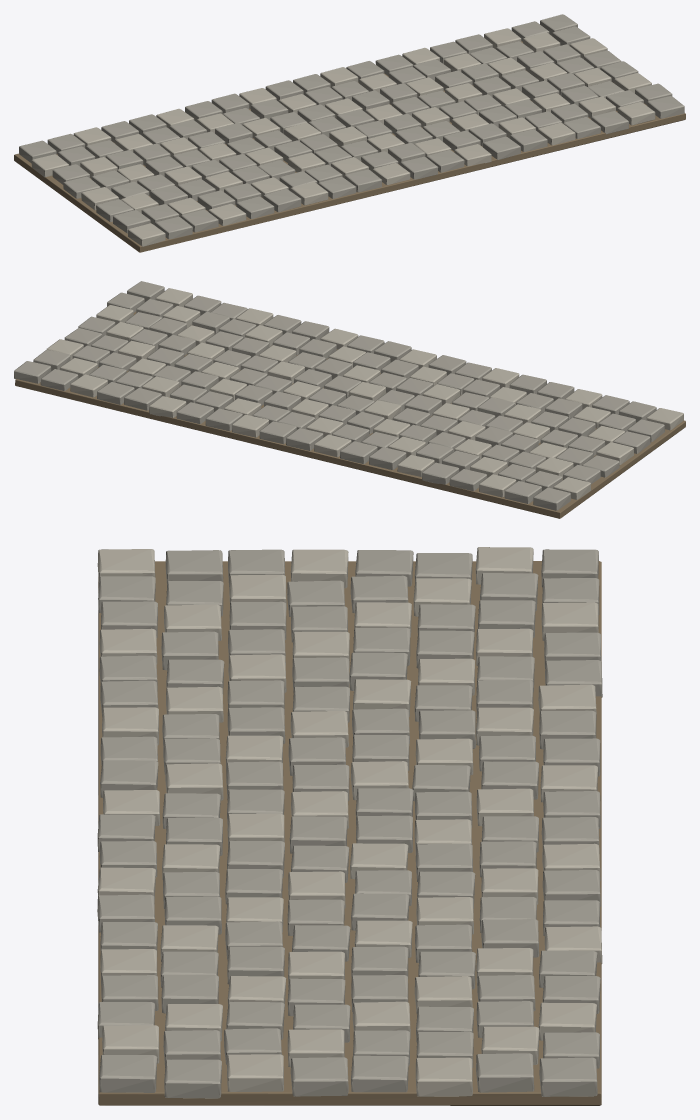
File: Prop_Cobbled_Road_10m_01_LOD1.fbx
3 views of the same model, one above another, from view 1: azimuth 30°, elevation 25°; view 2: azimuth 150°, elevation 25°; view 3: azimuth 270°, elevation 25° (orthographic). The views are drawn at different scales.
Parts seen in each view (by area): view 1: Cobble_RoadBase, Cobble_00_00, Cobble_13_00, Cobble_18_00, Cobble_19_00, Cobble_05_00, Cobble_06_00, Cobble_10_00, Cobble_04_00, Cobble_17_00, Cobble_15_00, Cobble_01_00 (+148 smaller); view 2: Cobble_RoadBase, Cobble_00_07, Cobble_06_07, Cobble_01_07, Cobble_19_07, Cobble_07_07, Cobble_09_07, Cobble_11_07, Cobble_17_07, Cobble_04_07, Cobble_03_07, Cobble_10_07 (+148 smaller); view 3: Cobble_RoadBase, Cobble_19_01, Cobble_19_07, Cobble_19_05, Cobble_19_06, Cobble_19_03, Cobble_19_00, Cobble_19_02, Cobble_19_04, Cobble_00_03, Cobble_08_01, Cobble_02_07 (+149 smaller).
Boxes of the visible parts, bbox=[...] form: Cobble_RoadBase: bbox=[14, 41, 685, 252]; Cobble_00_00: bbox=[127, 223, 165, 246]; Cobble_13_00: bbox=[483, 136, 520, 159]; Cobble_18_00: bbox=[617, 102, 655, 125]; Cobble_19_00: bbox=[647, 96, 684, 118]; Cobble_05_00: bbox=[263, 189, 301, 212]; Cobble_06_00: bbox=[290, 182, 328, 205]; Cobble_10_00: bbox=[400, 156, 438, 179]; Cobble_04_00: bbox=[236, 196, 274, 218]; Cobble_17_00: bbox=[591, 111, 628, 134]; Cobble_15_00: bbox=[537, 122, 575, 145]; Cobble_01_00: bbox=[155, 216, 192, 239]; Cobble_RoadBase: bbox=[15, 311, 685, 518]; Cobble_00_07: bbox=[533, 487, 570, 510]; Cobble_06_07: bbox=[369, 447, 406, 469]; Cobble_01_07: bbox=[504, 481, 541, 503]; Cobble_19_07: bbox=[14, 361, 51, 383]; Cobble_07_07: bbox=[340, 441, 377, 464]; Cobble_09_07: bbox=[286, 428, 323, 450]; Cobble_11_07: bbox=[232, 414, 268, 437]; Cobble_17_07: bbox=[70, 374, 107, 397]; Cobble_04_07: bbox=[422, 462, 459, 484]; Cobble_03_07: bbox=[449, 469, 487, 491]; Cobble_10_07: bbox=[259, 421, 296, 443]; Cobble_RoadBase: bbox=[98, 561, 601, 1105]; Cobble_19_01: bbox=[164, 1059, 221, 1098]; Cobble_19_07: bbox=[539, 1057, 597, 1096]; Cobble_19_05: bbox=[415, 1057, 472, 1096]; Cobble_19_06: bbox=[476, 1053, 534, 1092]; Cobble_19_03: bbox=[290, 1057, 348, 1096]; Cobble_19_00: bbox=[99, 1054, 157, 1092]; Cobble_19_02: bbox=[227, 1054, 283, 1091]; Cobble_19_04: bbox=[351, 1055, 408, 1092]; Cobble_00_03: bbox=[290, 549, 348, 588]; Cobble_08_01: bbox=[165, 763, 223, 800]; Cobble_02_07: bbox=[541, 602, 598, 640].
Bounding box in the file's own units: 1006 × 26.24 × 401.
